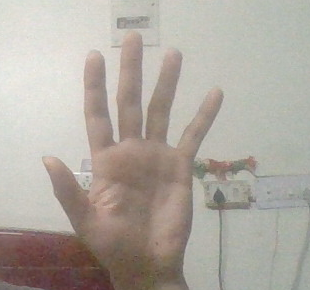move: (50, 31, 230, 290)
